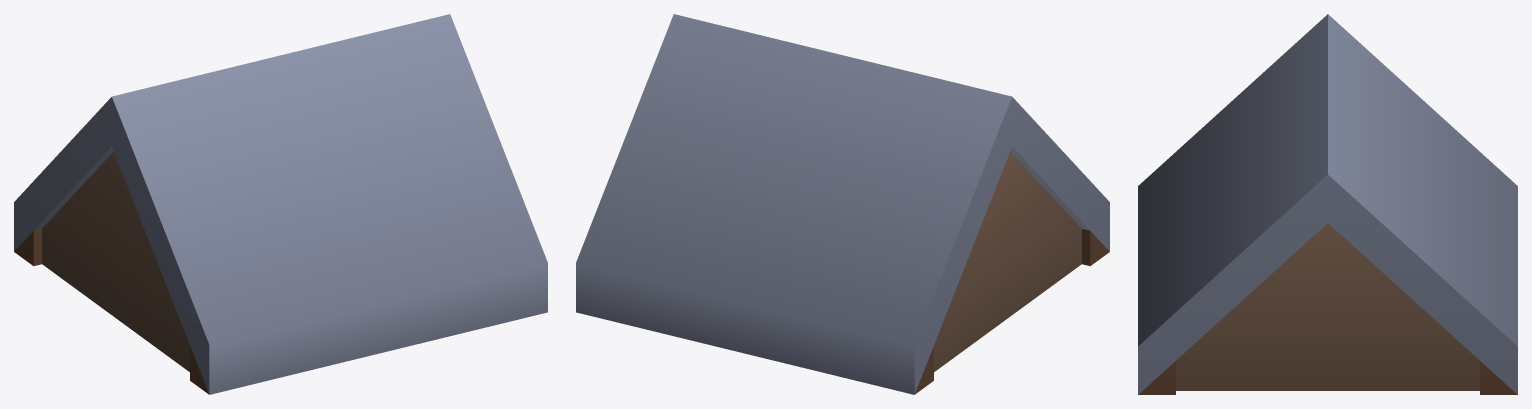
File: roof-high-gable-top.glb
3 renders of one model, left to right at view 1: azimuth 30°, elevation 25°; view 2: azimuth 150°, elevation 25°; view 3: azimuth 270°, elevation 25°, orthographic. The views are drawn at different scales.
Parts seen in each view (by area): view 1: roof-high-gable-top; view 2: roof-high-gable-top; view 3: roof-high-gable-top.
Part boxes in pixels (x1=…): roof-high-gable-top: x1=14, y1=14, x2=547, y2=394; roof-high-gable-top: x1=576, y1=14, x2=1109, y2=394; roof-high-gable-top: x1=1138, y1=14, x2=1517, y2=394.
Size of the model in its own units: 1 by 0.6407 by 1.
Materials: 1 (1 with a texture image).
